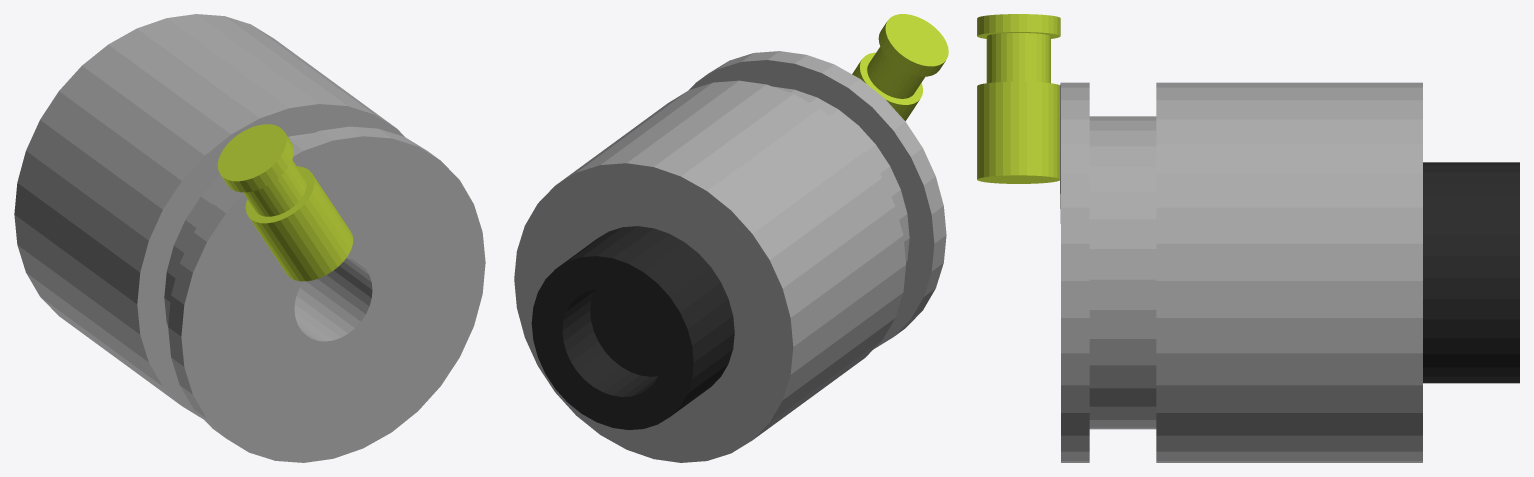
File: felislegspool.dae
The picture shows the model from 3 angles, left to right: view 1: azimuth 30°, elevation 25°; view 2: azimuth 150°, elevation 25°; view 3: azimuth 270°, elevation 25°; orthographic projection. The views are drawn at different scales.
Visible parts, largest first — view 1: LinkShapeSpool; view 2: LinkShapeSpool; view 3: LinkShapeSpool.
Boxes of the visible parts, <box> form: LinkShapeSpool: <box>14,14,485,462</box>; LinkShapeSpool: <box>514,14,948,462</box>; LinkShapeSpool: <box>977,14,1519,462</box>.
Size of the model in its own units: 0.8334 by 1.19 by 0.9494.
